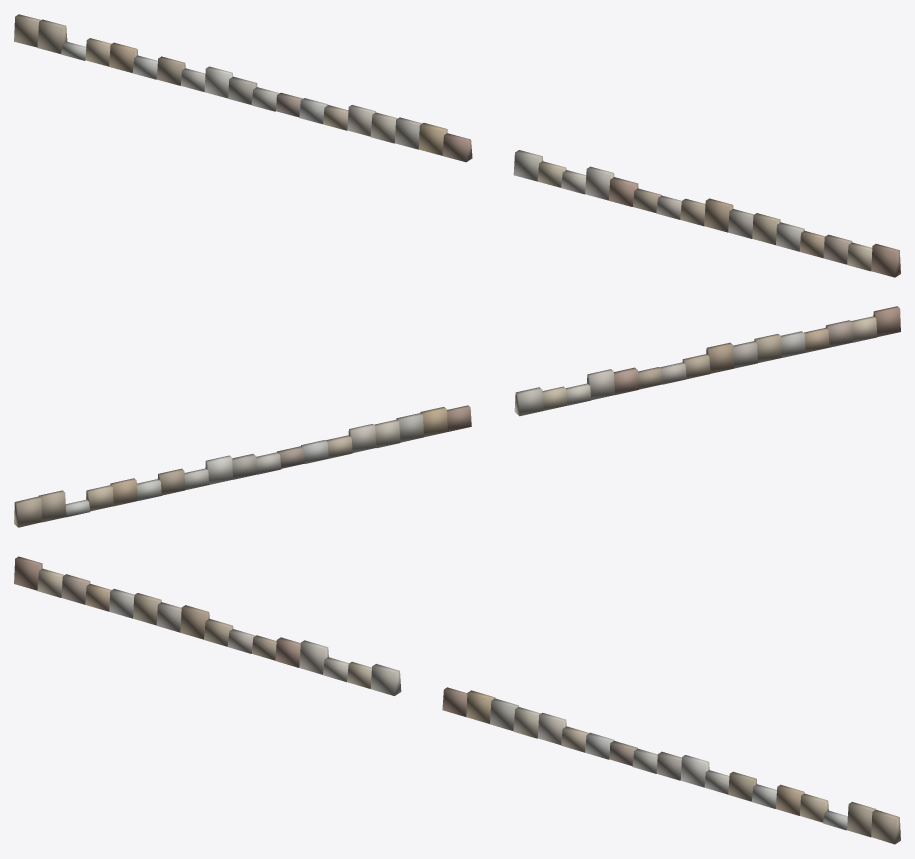
File: farm_-3_5_collision.glb
3 renders of one model, top to bottom at view 1: azimuth 90°, elevation 25°; view 2: azimuth 150°, elevation 25°; view 3: azimuth 270°, elevation 25°, orthographic. The views are drawn at different scales.
Visible parts, largest first — view 1: geometry_0; view 2: geometry_0; view 3: geometry_0.
Part boxes in pixels (x1,y1,x2,y2): geometry_0: (14, 14, 900, 277); geometry_0: (14, 306, 900, 527); geometry_0: (14, 556, 900, 844).
Bounding box in the file's own units: 33.22 × 2.26 × 49.41.
